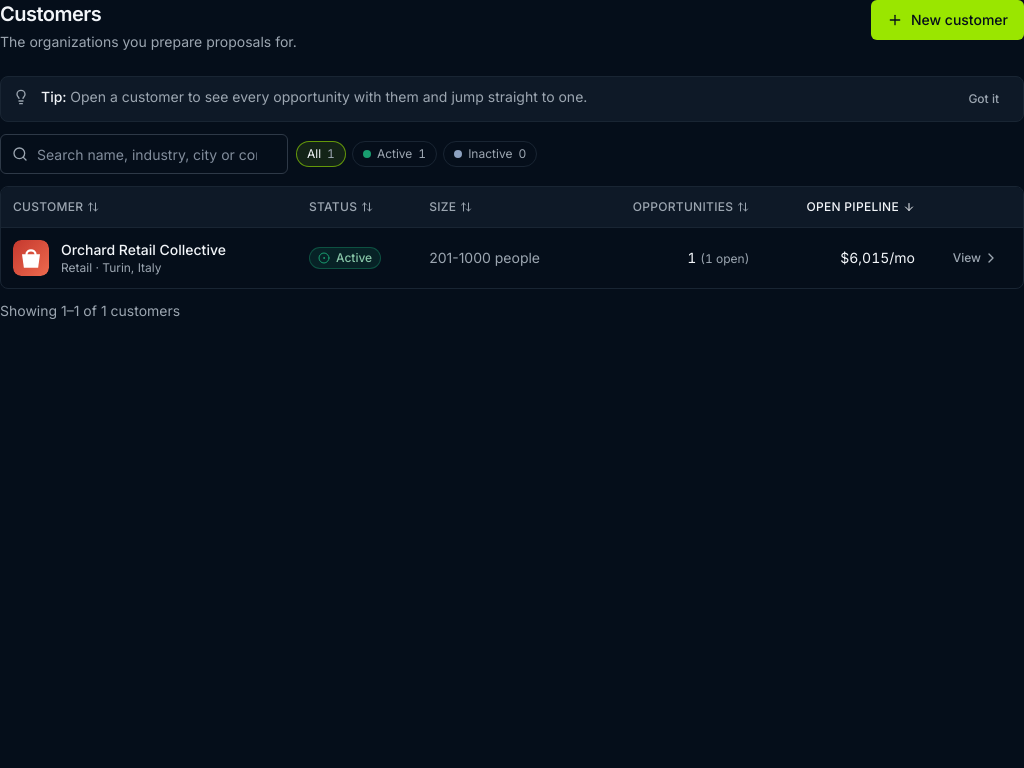
Scenario: CustomersPage › customer profile › copies the contact's email
This screenshot has width=1024, height=768.
Click the button "View": (976,258) [941, 242, 1011, 274]
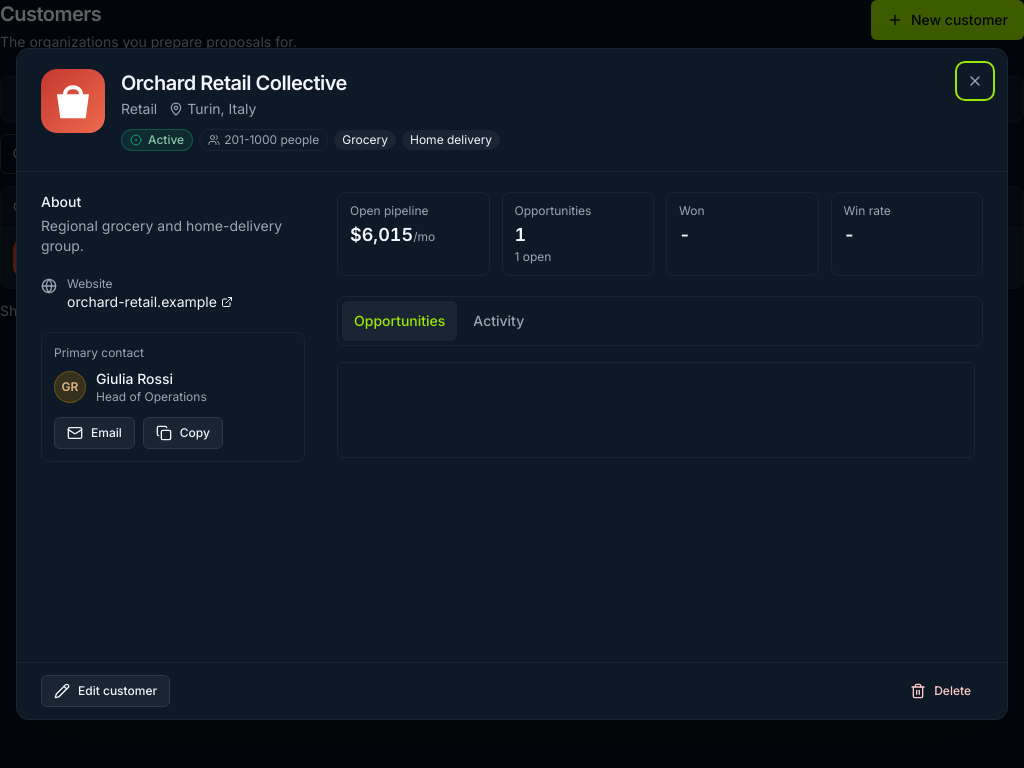
Click the button with aria-label "Copy giulia": (183,433) [143, 417, 223, 449]
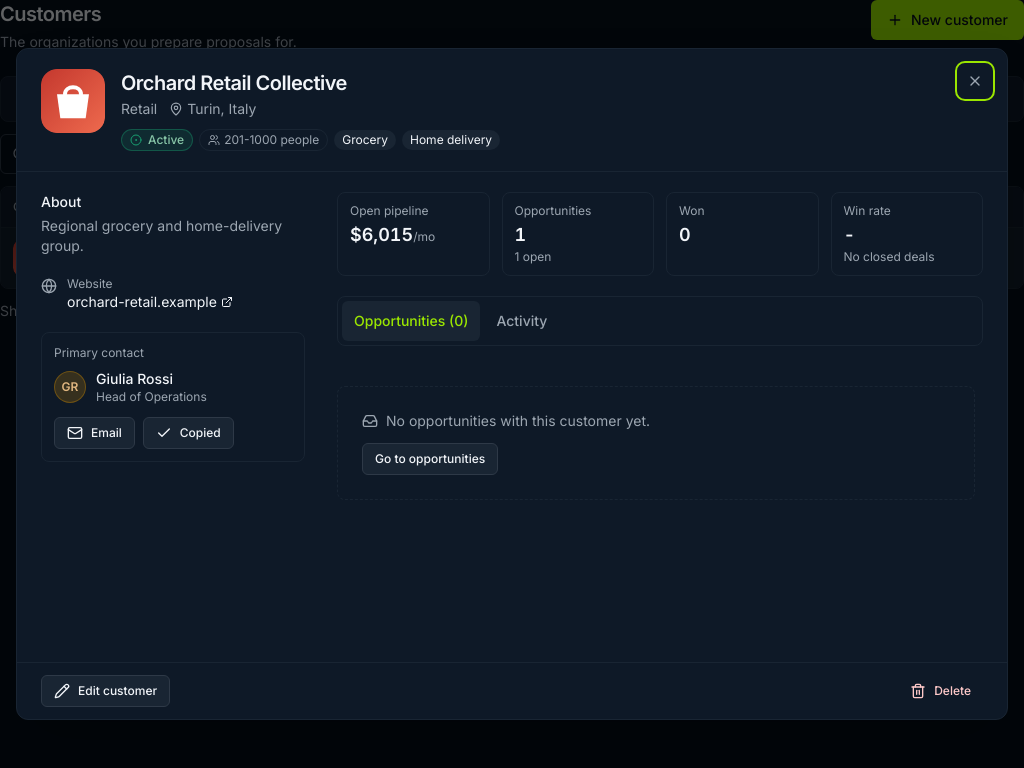
Result: the button "Copied" is shown at [143, 417, 234, 449]
